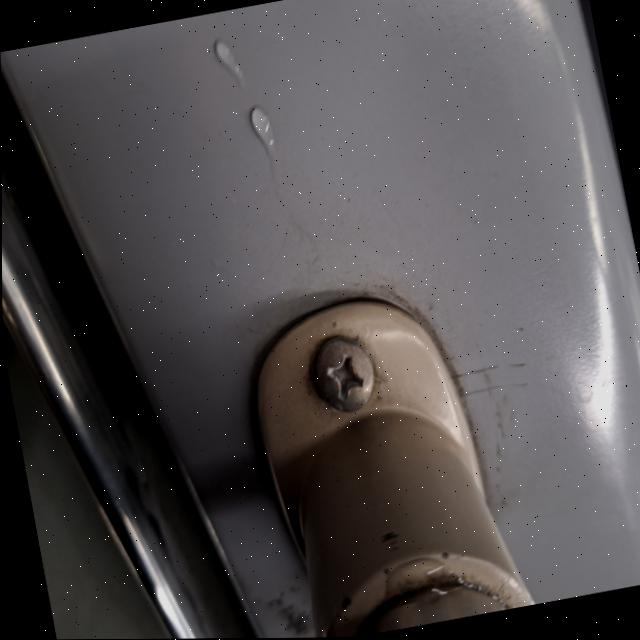Phillips: (301, 331, 380, 416)
